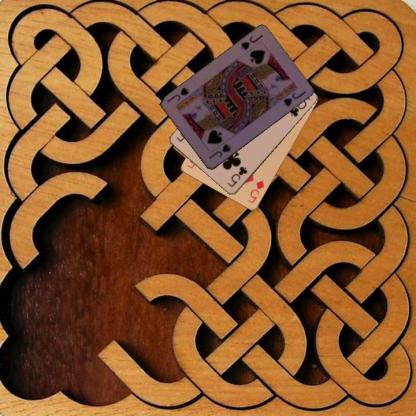5c: (225, 164, 248, 188)
5d: (245, 178, 265, 205)
Js: (238, 32, 265, 51), (206, 142, 232, 160)
